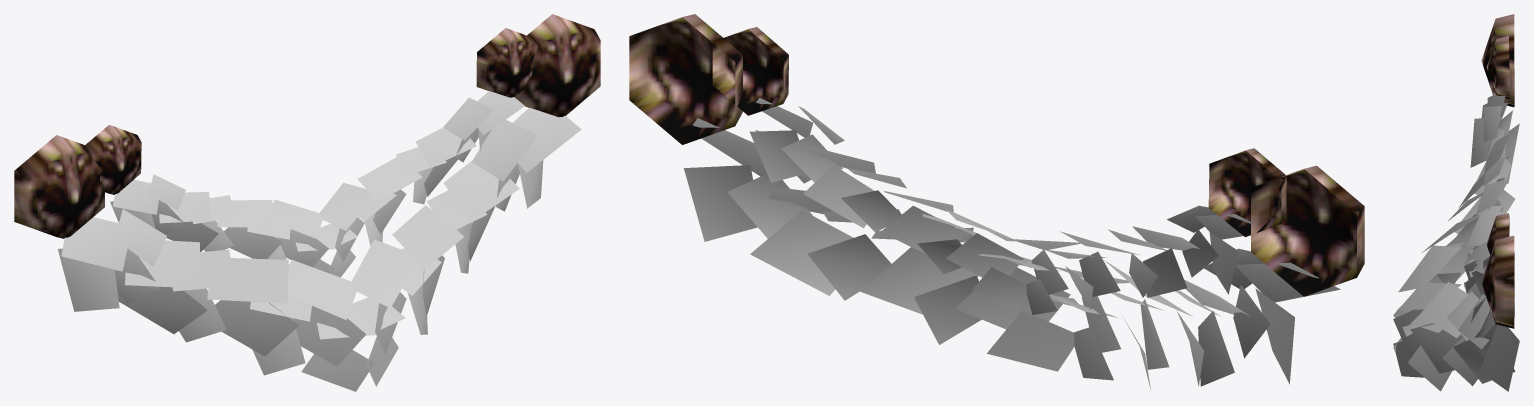
File: gzc_wj_13.fbx
The picture shows the model from 3 angles, left to right: view 1: azimuth 30°, elevation 25°; view 2: azimuth 150°, elevation 25°; view 3: azimuth 270°, elevation 25°; orthographic projection. The views are drawn at different scales.
Visible parts, largest first — view 1: gzc_wj_13; view 2: gzc_wj_13; view 3: gzc_wj_13.
Part boxes in pixels (box(x1,y1,x2,y2)): gzc_wj_13: box(14, 14, 600, 391); gzc_wj_13: box(629, 14, 1364, 390); gzc_wj_13: box(1393, 14, 1519, 391).
Size of the model in its own units: 569 by 253 by 117.
